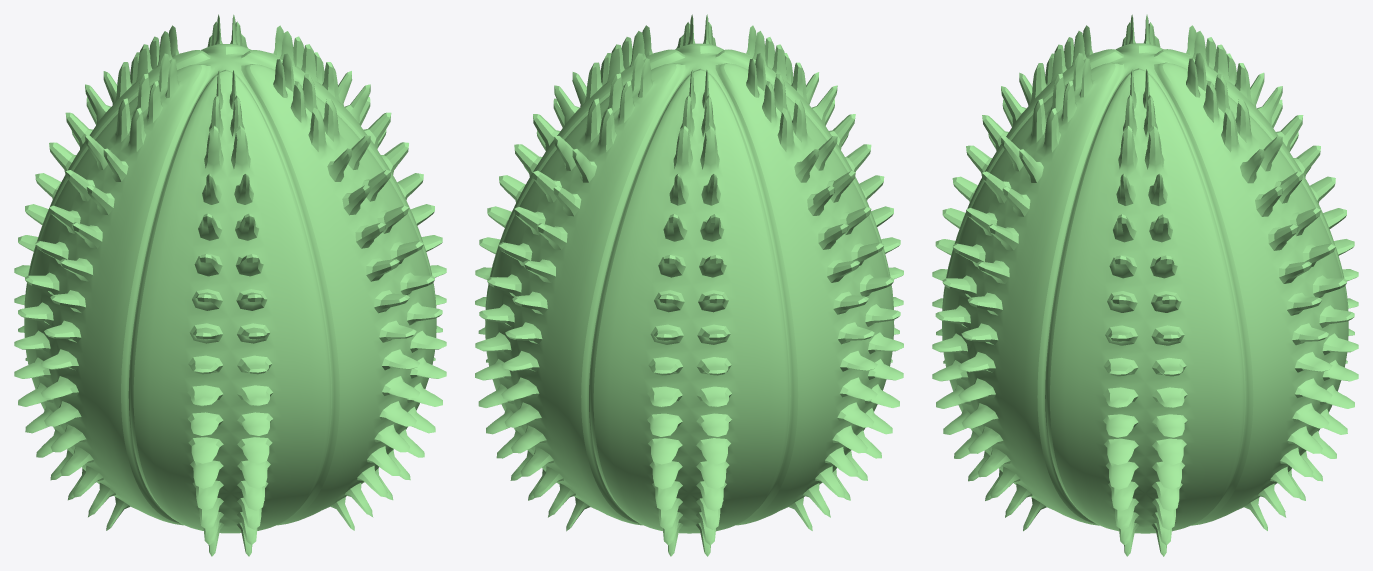
Rendered from Datura.fbx.
The picture shows the model from 3 angles, left to right: view 1: azimuth 30°, elevation 25°; view 2: azimuth 150°, elevation 25°; view 3: azimuth 270°, elevation 25°; orthographic projection.
Visible parts, largest first — view 1: Sphere; view 2: Sphere; view 3: Sphere.
Part boxes in pixels (x1,y1,x2,y2): Sphere: [14, 14, 446, 556]; Sphere: [475, 14, 903, 556]; Sphere: [932, 14, 1358, 556].
Bounding box in the file's own units: 8.85 × 9.93 × 8.2.
